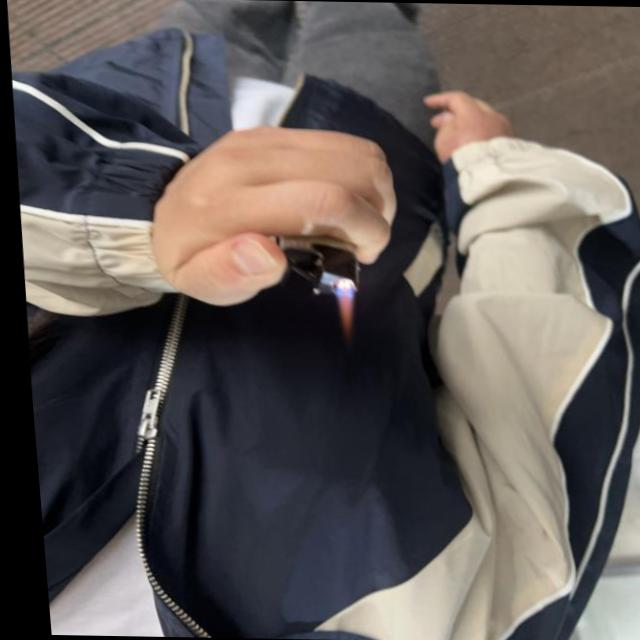Fire: (328, 288, 350, 326)
